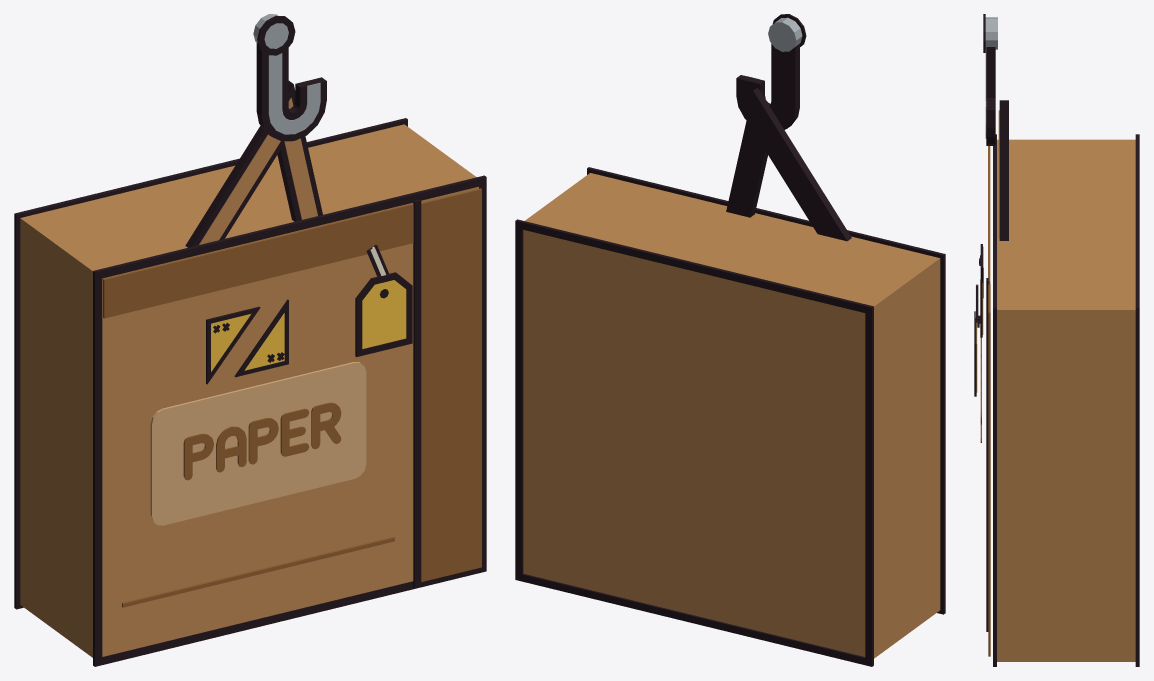
3 views of the same model, side by side, from view 1: azimuth 30°, elevation 25°; view 2: azimuth 150°, elevation 25°; view 3: azimuth 270°, elevation 25° (orthographic). The views are drawn at different scales.
Visible parts, largest first — view 1: Bag Holders proposal; view 2: Bag Holders proposal; view 3: Bag Holders proposal.
Boxes of the visible parts, x1,y1,x2,y2 form: Bag Holders proposal: (14, 14, 486, 666); Bag Holders proposal: (515, 14, 945, 666); Bag Holders proposal: (974, 14, 1139, 666).
Bounding box in the file's own units: 0.6974 × 1.04 × 0.2804.
